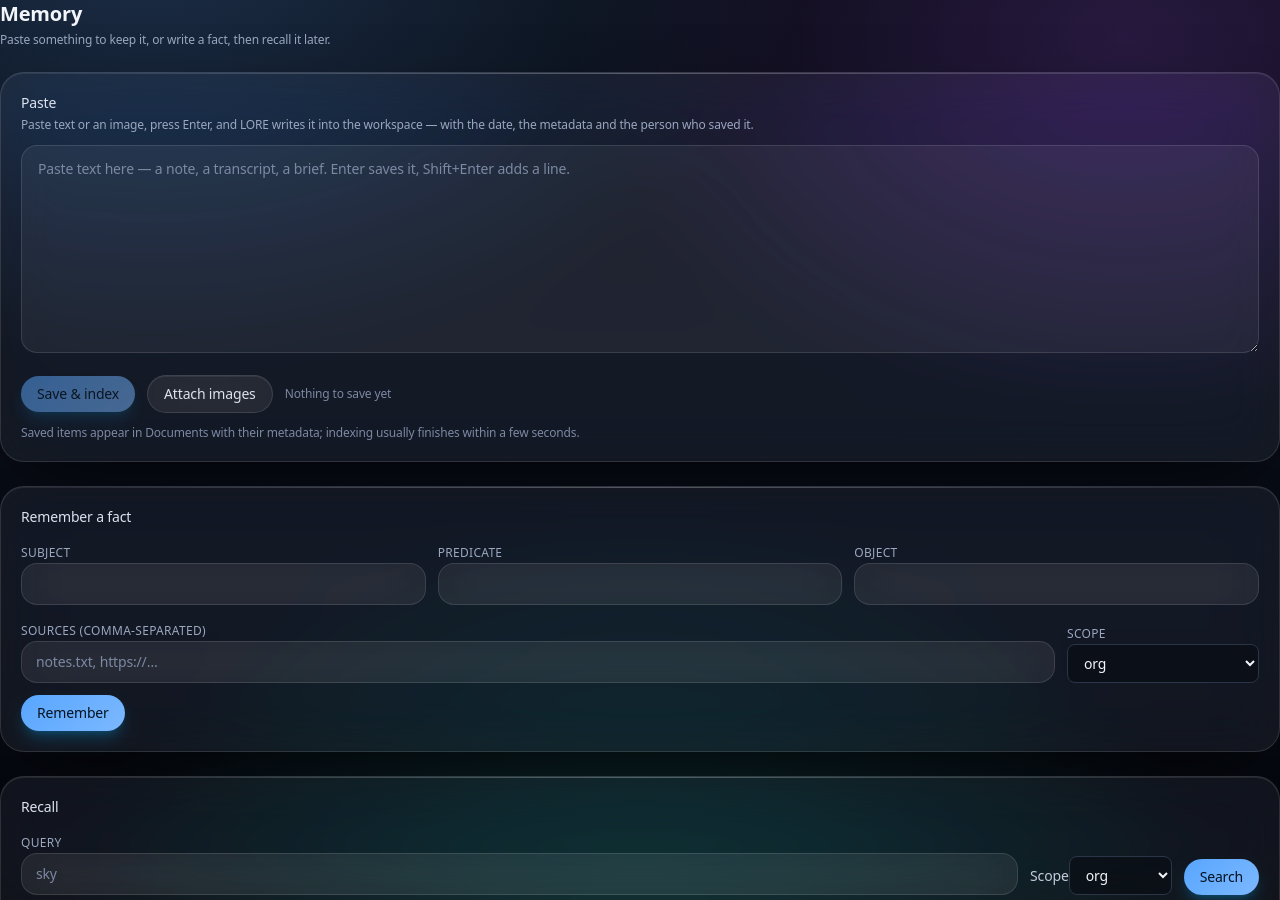
Test: Memory › forgets an assertion from the recall results
What coordinates should you click on to do the following:
click the button "Search"
I would click on:
 (1221, 877)
Its box is [1184,859,1259,895].
(page scrolled)
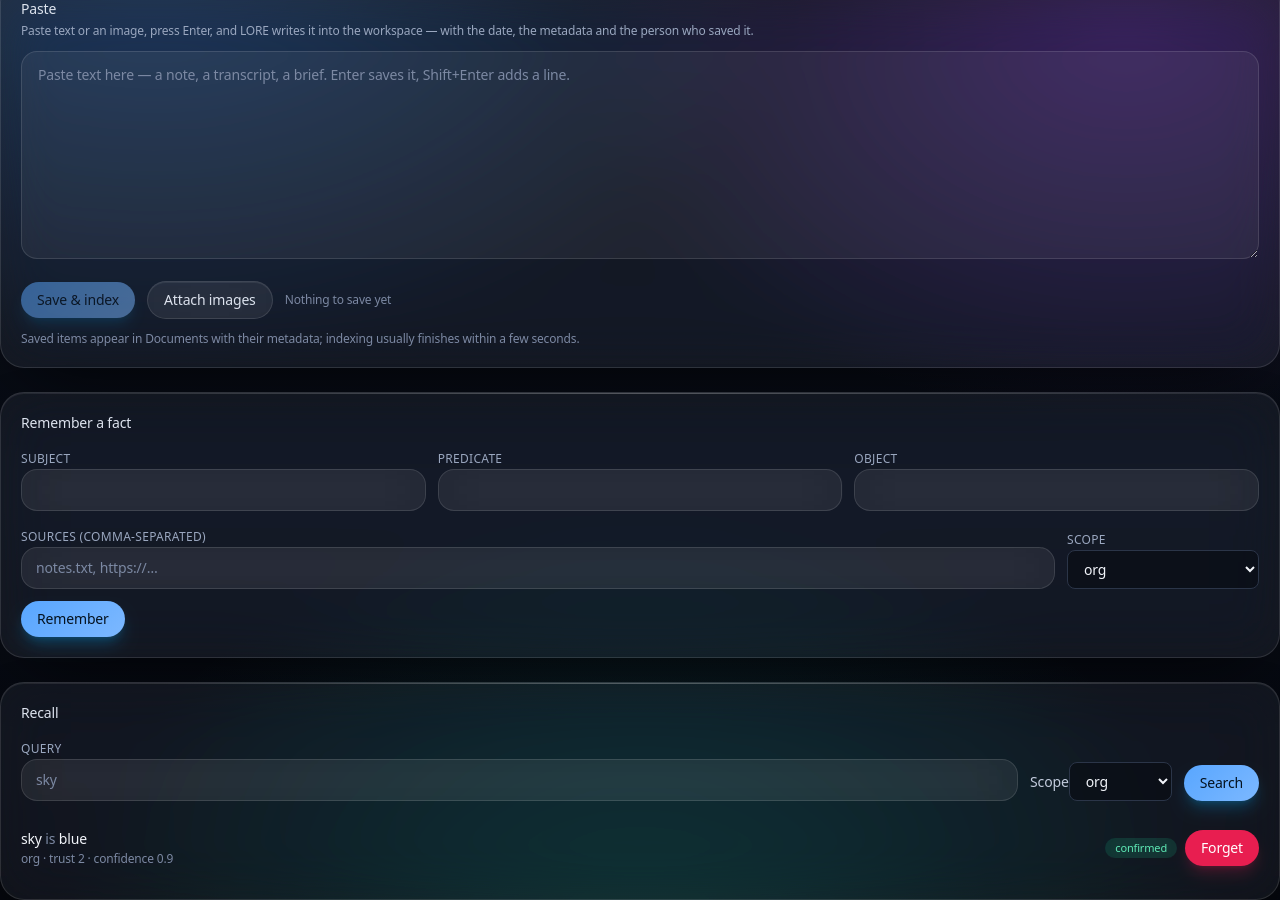
Result: the button "Forget" is shown
What coordinates should you click on to do the following:
click the button "Forget"
I would click on:
 (1222, 848)
Its box is [1185,830,1259,866].
(page scrolled)
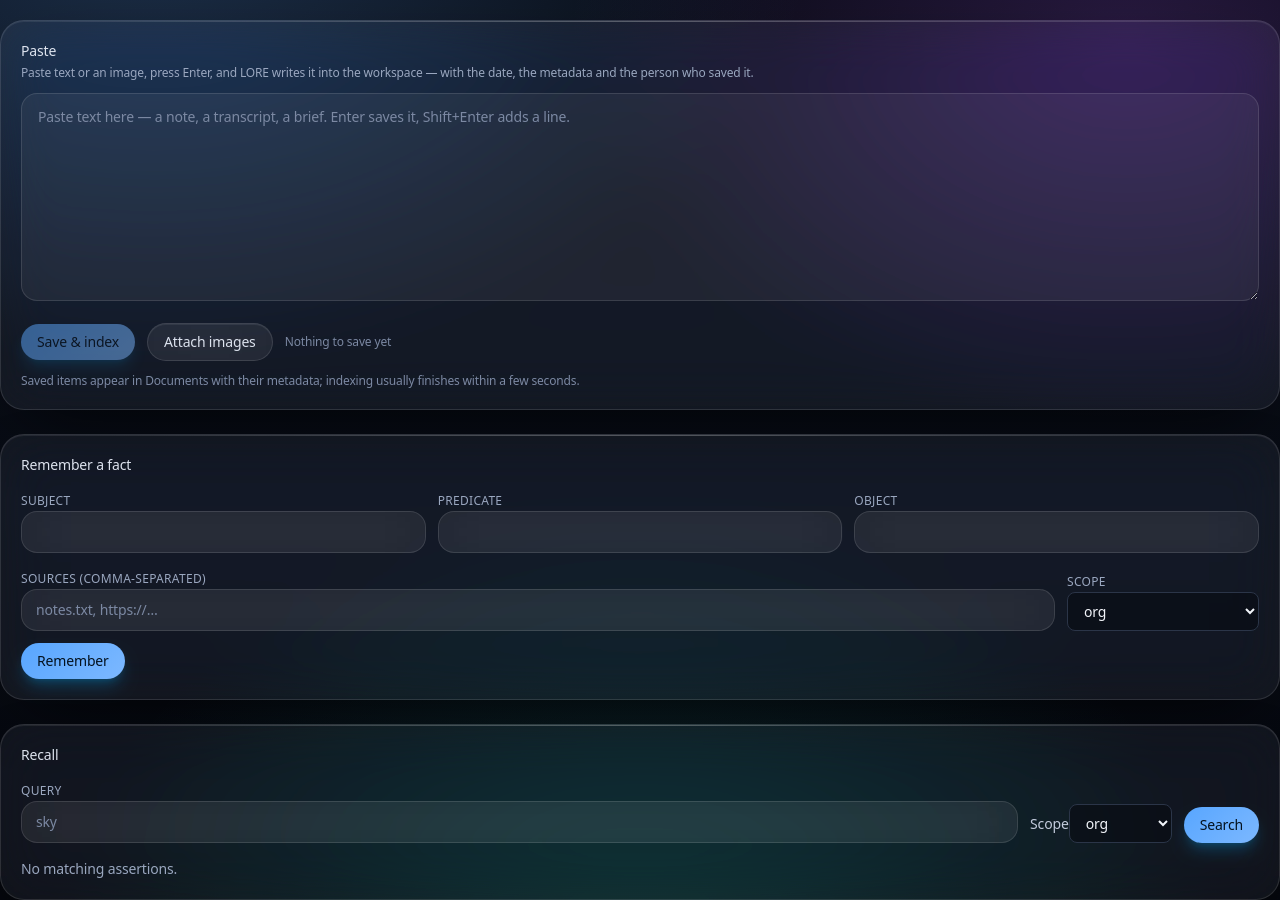
Result: the button "Forget" is gone
